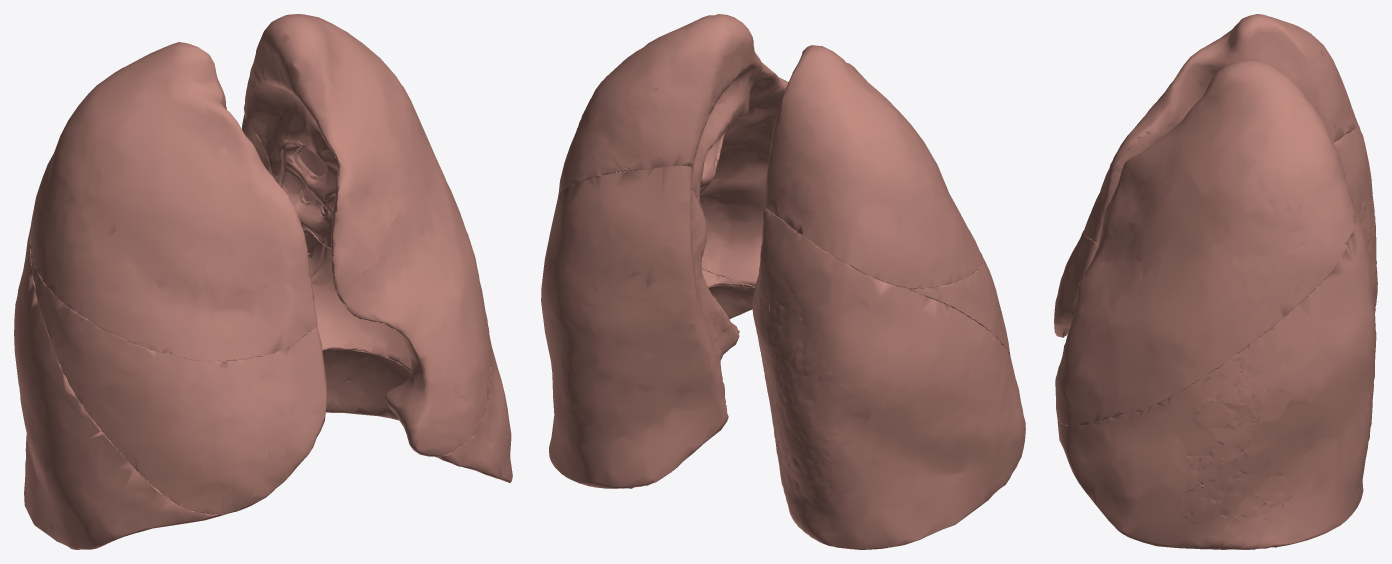
Rendered from explorar-lungs.glb.
3 views of the same model, side by side, from view 1: azimuth 30°, elevation 25°; view 2: azimuth 150°, elevation 25°; view 3: azimuth 270°, elevation 25° (orthographic). The views are drawn at different scales.
Parts seen in each view (by area): view 1: lungs__superior_derecho, lungs__superior_izquierdo, lungs__medio_derecho, lungs__inferior_derecho, lungs__inferior_izquierdo; view 2: lungs__inferior_derecho, lungs__inferior_izquierdo, lungs__superior_derecho, lungs__superior_izquierdo, lungs__medio_derecho; view 3: lungs__superior_izquierdo, lungs__inferior_izquierdo, lungs__superior_derecho, lungs__inferior_derecho, lungs__medio_derecho.
Part boxes in pixels (x1,y1,x2,y2): lungs__superior_derecho: (29,42,317,361); lungs__superior_izquierdo: (244,14,491,456); lungs__medio_derecho: (30,250,327,514); lungs__inferior_derecho: (14,226,227,549); lungs__inferior_izquierdo: (242,113,512,482); lungs__inferior_derecho: (752,207,1025,549); lungs__inferior_izquierdo: (541,165,754,488); lungs__superior_derecho: (764,45,982,288); lungs__superior_izquierdo: (558,14,788,287); lungs__medio_derecho: (859,254,1010,356); lungs__superior_izquierdo: (1055,59,1354,425); lungs__inferior_izquierdo: (1057,204,1376,549); lungs__superior_derecho: (1083,14,1358,242); lungs__inferior_derecho: (1334,125,1377,312); lungs__medio_derecho: (1054,230,1099,337).
Size of the model in its own units: 0.2535 by 0.2589 by 0.1812.
